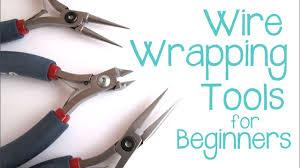pliers: (98, 86, 176, 167), (49, 49, 136, 113)
